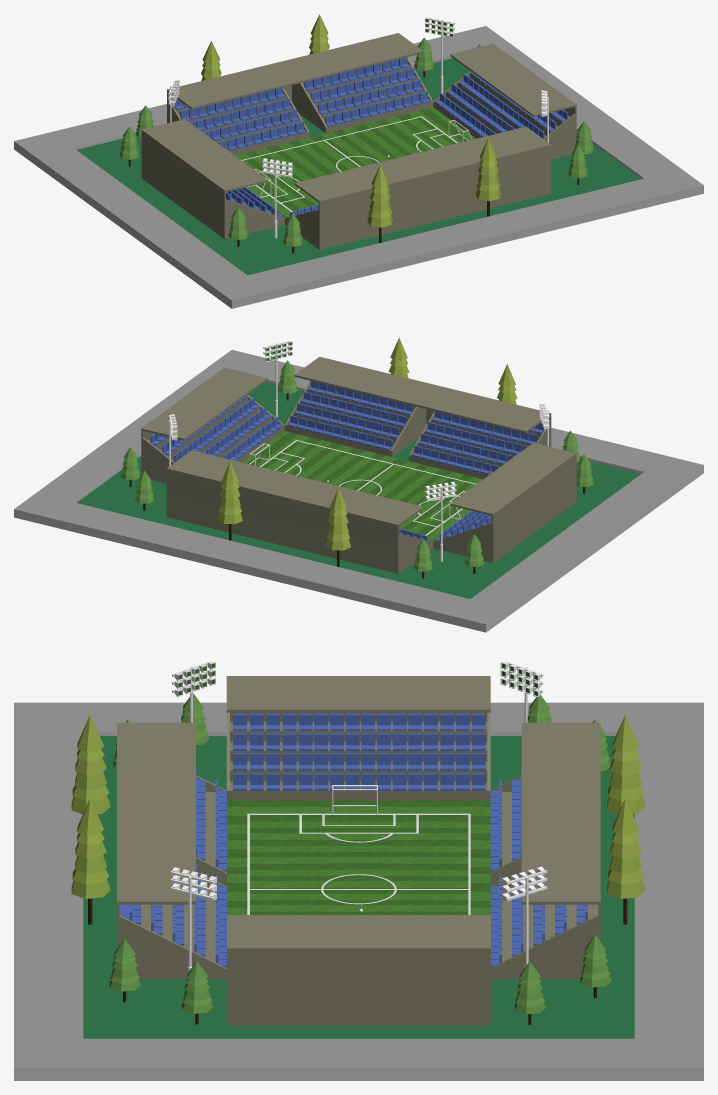
The model's file is SportsField.e901bb9f.gltf.
3 views of the same model, one above another, from view 1: azimuth 30°, elevation 25°; view 2: azimuth 150°, elevation 25°; view 3: azimuth 270°, elevation 25° (orthographic). The views are drawn at different scales.
Parts seen in each view (by area): view 1: model_5; view 2: model_5; view 3: model_5.
Part boxes in pixels (bbox=[...]): model_5: bbox=[14, 14, 703, 308]; model_5: bbox=[14, 337, 703, 632]; model_5: bbox=[14, 661, 703, 1080].
Size of the model in its own units: 88.88 by 15.31 by 71.02.
Materials: 6 (4 with a texture image).
